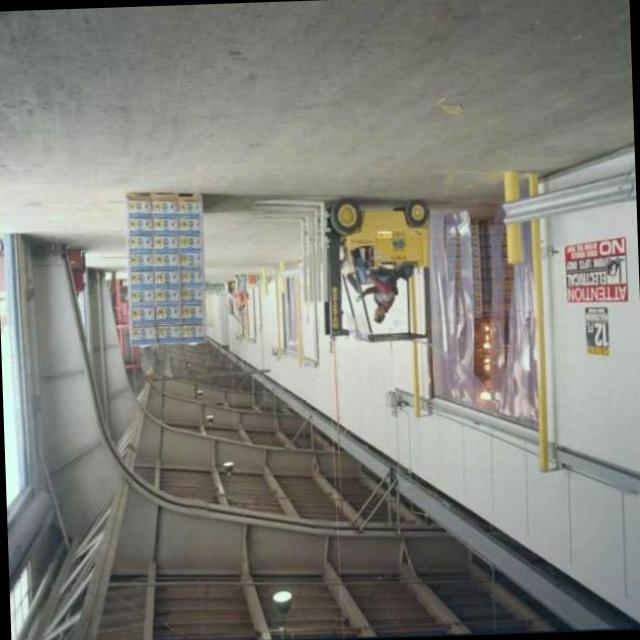driver: (349, 246, 402, 329)
forklift: (304, 194, 434, 346)
